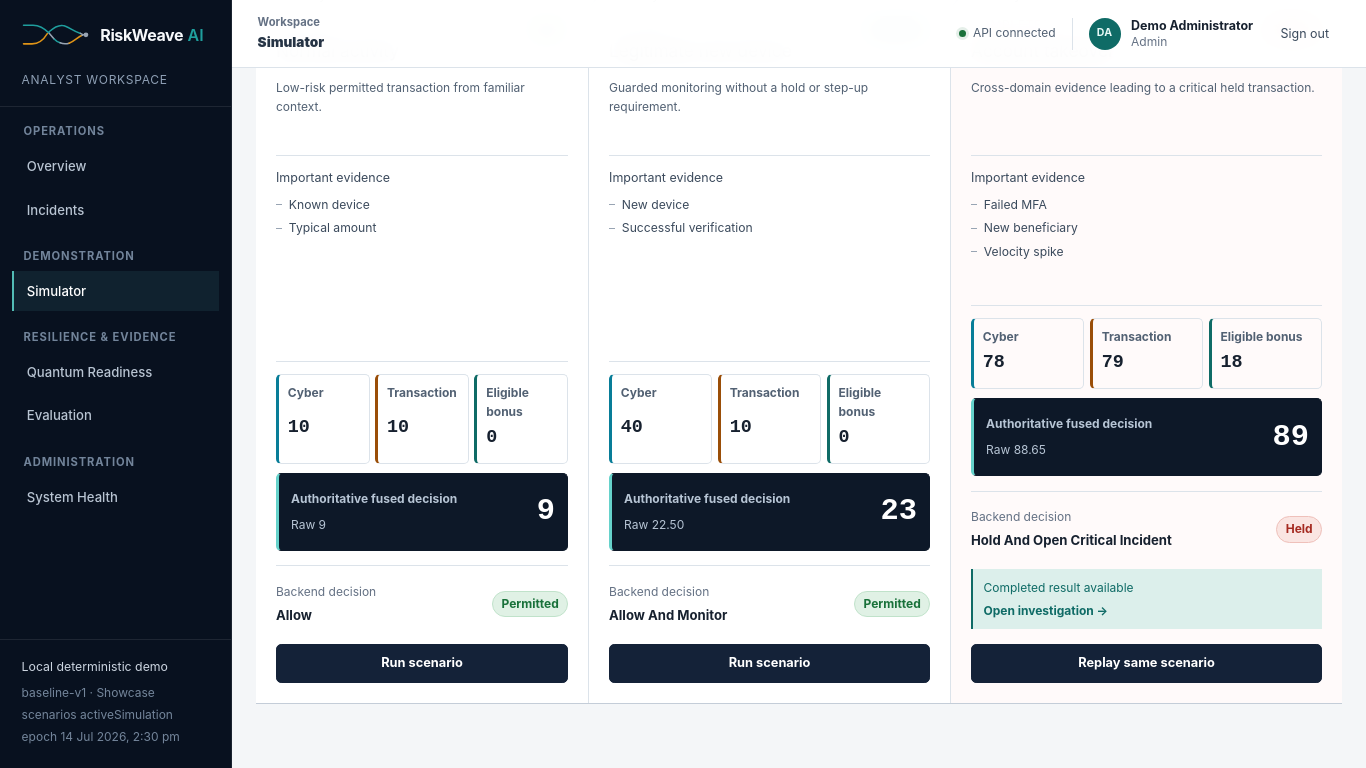
Test case: RiskWeave authenticated product › lets an administrator execute a deterministic scenario and link to the resulting incident
(page scrolled)
Click the button "Run scenario" below "Allow And Monitor" at (770, 663), box [609,644,930,683]
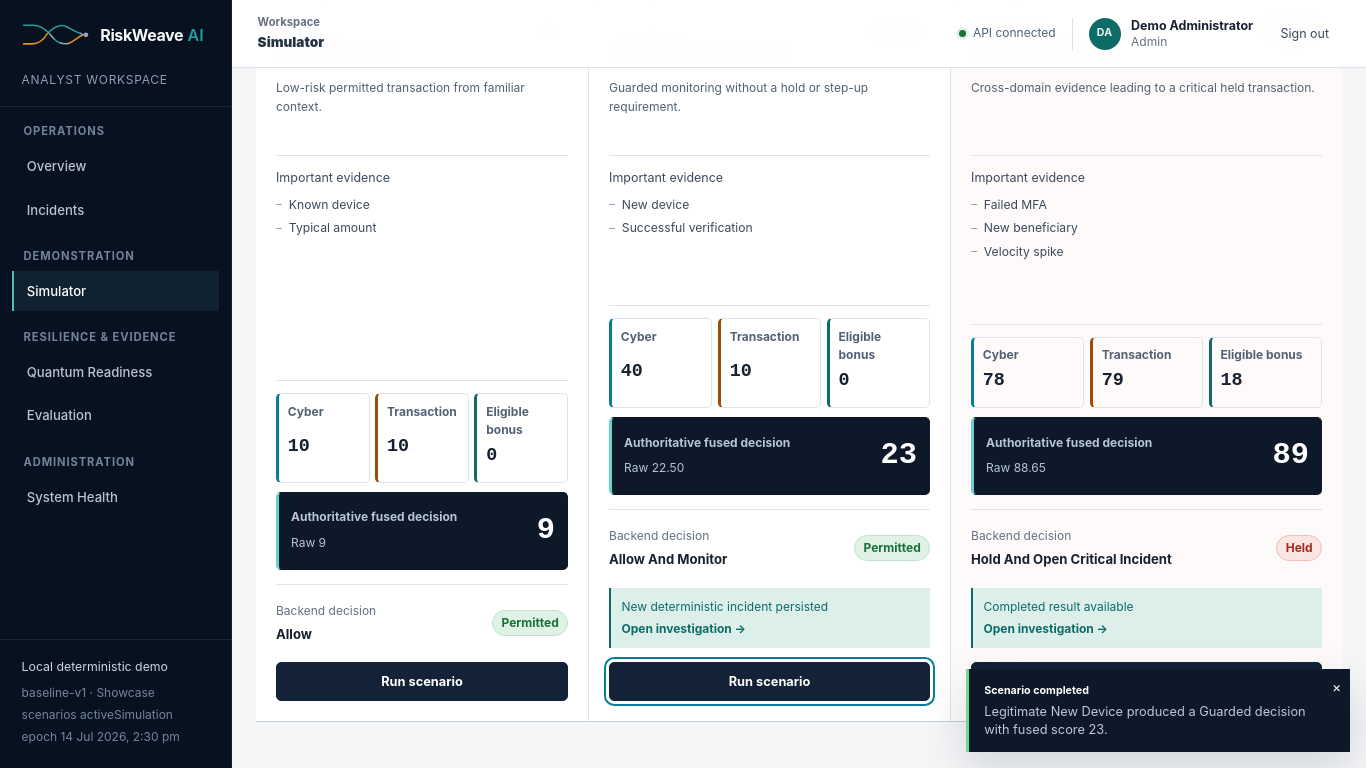
Check: the text "New deterministic incident persisted" is shown, box [621,599,828,614]
